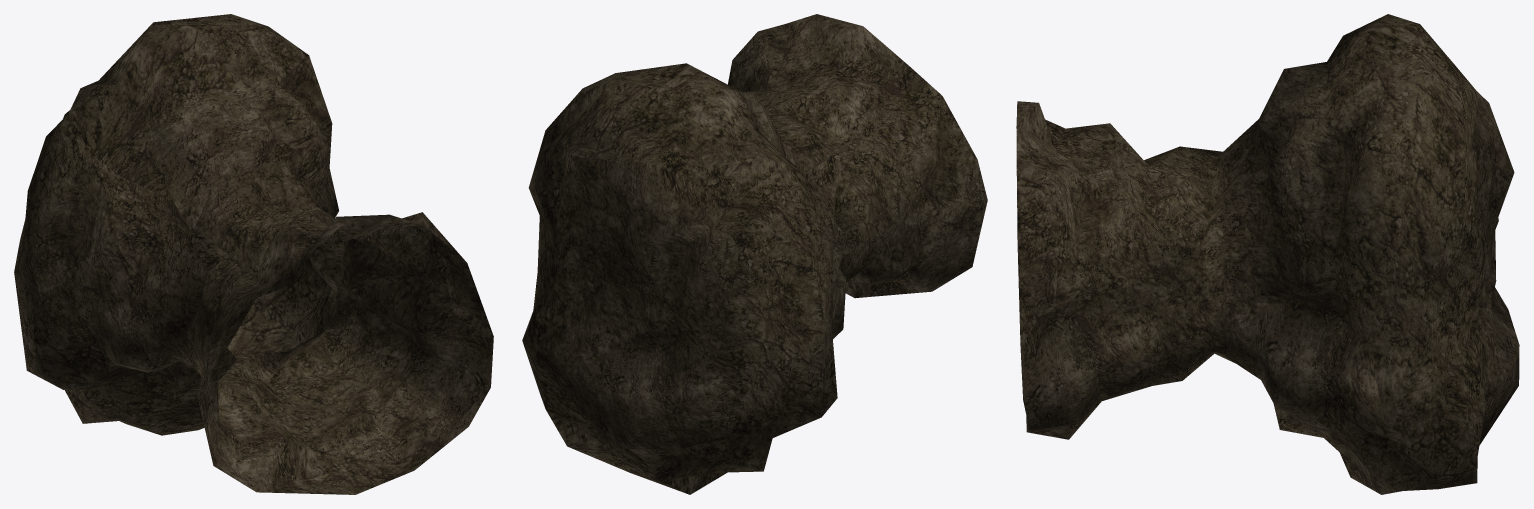
Rendered from FO_Mud_05_LOD_01.fbx.
The picture shows the model from 3 angles, left to right: view 1: azimuth 30°, elevation 25°; view 2: azimuth 150°, elevation 25°; view 3: azimuth 270°, elevation 25°; orthographic projection. The views are drawn at different scales.
Parts seen in each view (by area): view 1: FO_Mud_05_LOD_01; view 2: FO_Mud_05_LOD_01; view 3: FO_Mud_05_LOD_01.
Boxes of the visible parts, x1=… form: FO_Mud_05_LOD_01: x1=14, y1=14, x2=493, y2=494; FO_Mud_05_LOD_01: x1=522, y1=14, x2=987, y2=494; FO_Mud_05_LOD_01: x1=1016, y1=14, x2=1519, y2=494.
Size of the model in its own units: 7.26 by 9.24 by 9.33.
